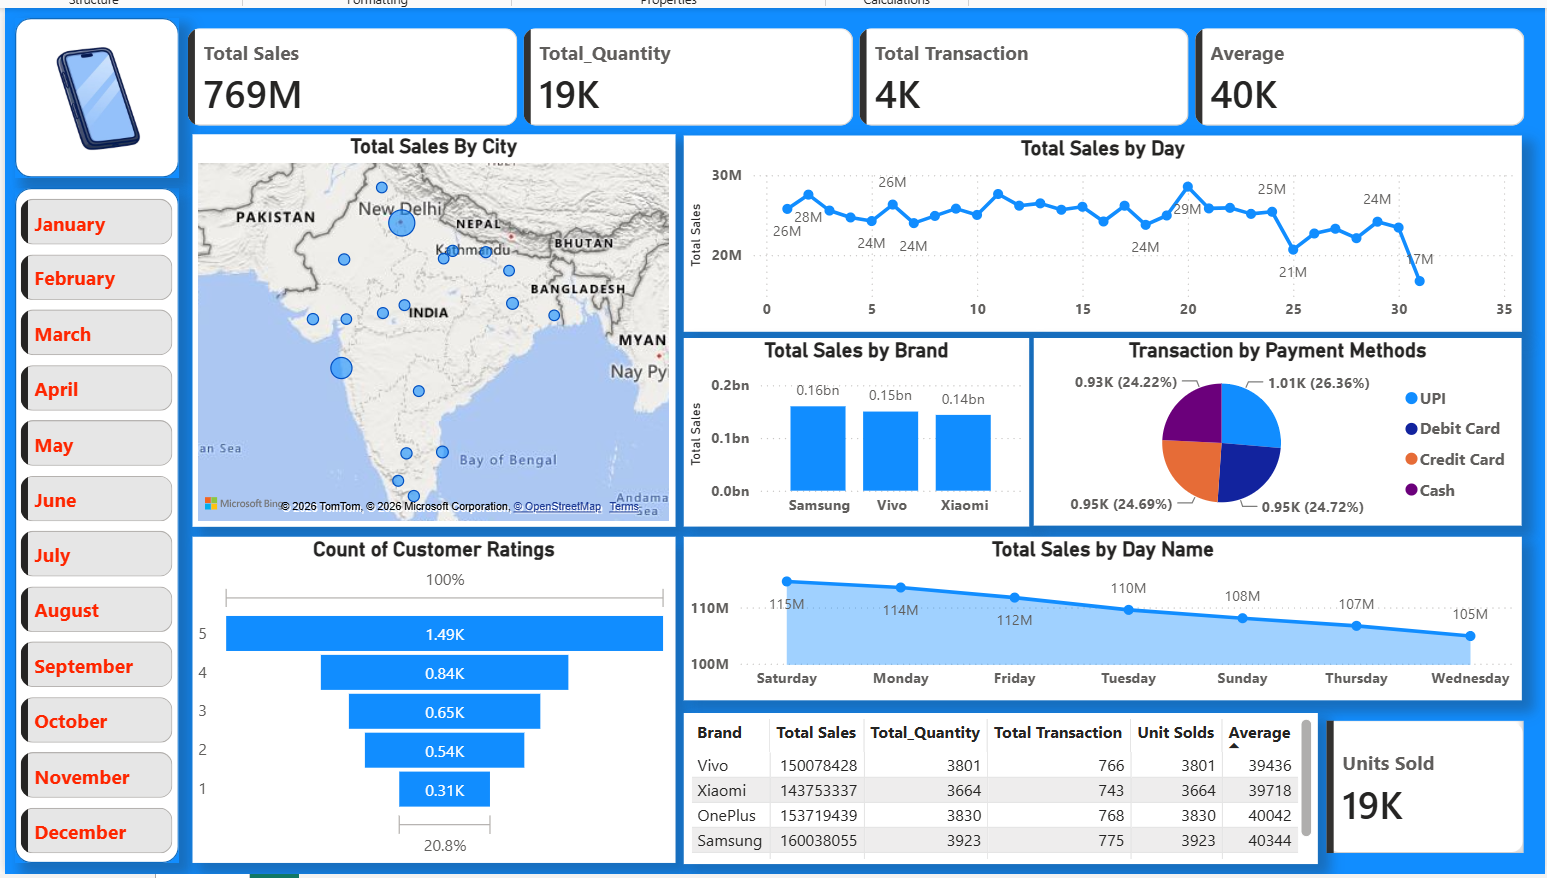

This screenshot's page, from the dashboard's own definition file:
{"tool":"powerbi","page":{"name":"Page 1","canvas":[1280,720],"ordinal":0},"visuals":[{"type":"shape","box":[8.8,8.8,136.2,132.5],"z":0},{"type":"shape","box":[8.8,150,136.2,561.2],"z":1000},{"type":"advancedSlicerVisual","fields":{"Values":["Sheet1.Date.Variation.Date Hierarchy.Month"]},"box":[8.8,153.8,136.2,562.5],"z":2000},{"type":"cardVisual","fields":{"Data":["Mobile_Sales_Data.Total Sales","Mobile_Sales_Data.Total_Quantity","Mobile_Sales_Data.Total Transaction","Mobile_Sales_Data.Average"]},"box":[135,0,1145,115],"z":3000},{"type":"map","title":"Total Sales By City","fields":{"Category":["Mobile_Sales_Data.City"],"Size":["Mobile_Sales_Data.Total Sales"]},"box":[156.2,105,401.2,326.2],"z":4000},{"type":"lineChart","fields":{"Category":["Mobile_Sales_Data.Date.Variation.Date Hierarchy.Month","Mobile_Sales_Data.Date.Variation.Date Hierarchy.Day"],"Y":["Mobile_Sales_Data.Total Sales"]},"box":[564.3,105.7,697.1,162.9],"z":5000},{"type":"columnChart","fields":{"Category":["Mobile_Sales_Data.Brand"],"Y":["Mobile_Sales_Data.Total Sales"]},"box":[564.3,274.3,287.1,157.1],"z":6000},{"type":"pieChart","title":"Transaction by Payment Methods","fields":{"Category":["Mobile_Sales_Data.Payment Method"],"Y":["CountNonNull(Mobile_Sales_Data.Payment Method)"]},"box":[855.7,274.3,405.7,155.7],"z":7000},{"type":"funnel","title":"Count of Customer Ratings","fields":{"Category":["Mobile_Sales_Data.Customer Ratings"],"Y":["CountNonNull(Mobile_Sales_Data.Customer Ratings)"]},"box":[155.7,440,401.4,271.4],"z":8000},{"type":"areaChart","fields":{"Category":["Mobile_Sales_Data.Day Name"],"Y":["Mobile_Sales_Data.Total Sales"]},"box":[564.3,440,697.1,135.7],"z":9000},{"type":"tableEx","fields":{"Values":["Mobile_Sales_Data.Brand","Mobile_Sales_Data.Total Sales","Mobile_Sales_Data.Total_Quantity","Mobile_Sales_Data.Total Transaction","Sum(Mobile_Sales_Data.Units Sold)","Mobile_Sales_Data.Average"]},"box":[564.3,585.7,527.1,125.7],"z":10000},{"type":"cardVisual","fields":{"Data":["Sum(Mobile_Sales_Data.Units Sold)"]},"box":[1081.4,575.7,198.6,144.3],"z":12000},{"type":"image","box":[9.3,9.3,136,132.6],"z":12001}]}

Visuals, with their boxes in screenshot pixels (x1, y1, x2, y2):
shape: (15,15,177,172)
shape: (15,183,177,852)
advancedSlicerVisual - Sheet1.Date.Variation.Date Hierarchy.Month: (15,187,177,858)
cardVisual - Mobile_Sales_Data.Total Sales x Mobile_Sales_Data.Total_Quantity: (165,4,1530,141)
"Total Sales By City" map: (190,129,668,518)
lineChart - Mobile_Sales_Data.Date.Variation.Date Hierarchy.Month x Mobile_Sales_Data.Date.Variation.Date Hierarchy.Day: (677,130,1507,324)
columnChart - Mobile_Sales_Data.Brand x Mobile_Sales_Data.Total Sales: (677,331,1019,518)
"Transaction by Payment Methods" pieChart: (1024,331,1507,517)
"Count of Customer Ratings" funnel: (190,528,668,852)
areaChart - Mobile_Sales_Data.Day Name x Mobile_Sales_Data.Total Sales: (677,528,1507,690)
tableEx - Mobile_Sales_Data.Brand x Mobile_Sales_Data.Total Sales: (677,702,1305,852)
cardVisual - Sum(Mobile_Sales_Data.Units Sold): (1293,690,1530,862)
image: (15,15,177,173)
